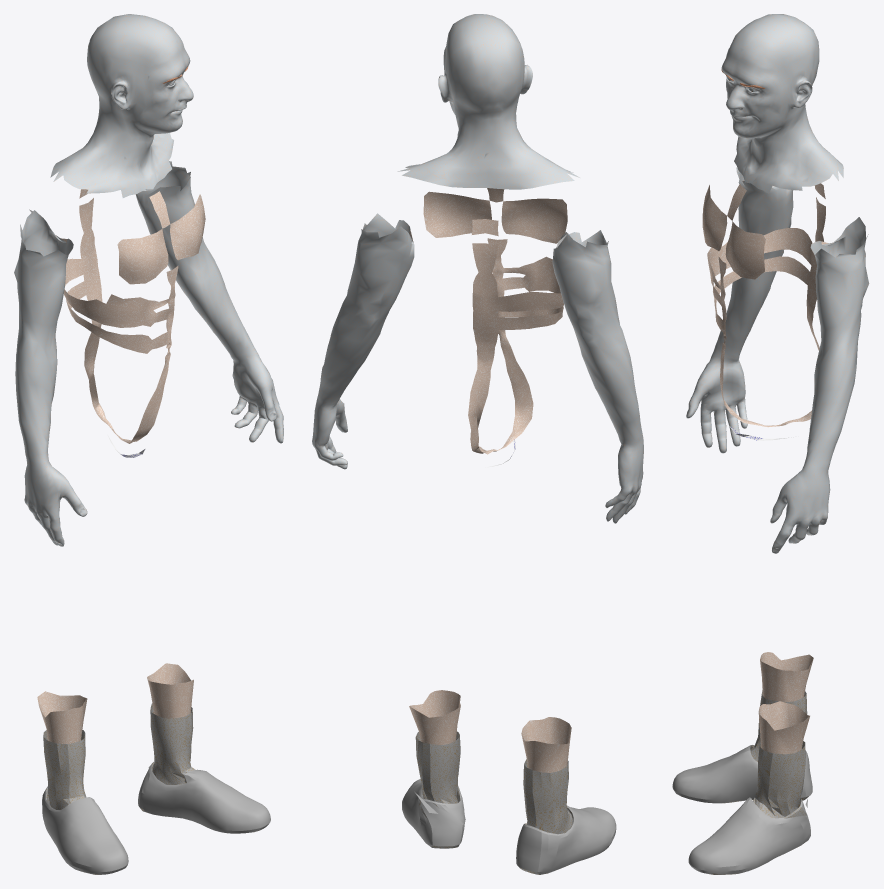
The model's file is skeleton_no_hair.dae.
3 renders of one model, left to right at view 1: azimuth 30°, elevation 25°; view 2: azimuth 150°, elevation 25°; view 3: azimuth 270°, elevation 25°, orthographic. The views are drawn at different scales.
Visible parts, largest first — view 1: group_4, group_4_002, group_4_001, group_5_004, group_1, group_1_001, group_0_008, group_0_009, group_5_014, group_5_010, group_5_013, group_5_011; view 2: group_4, group_4_002, group_4_001, group_5_004, group_1_001, group_0_009, group_1, group_5_014, group_0_008, group_5_011, group_5_013, group_5_010; view 3: group_4, group_4_001, group_4_002, group_1, group_5_004, group_1_001, group_0_008, group_5_010, group_5_013, group_5_011, group_5_014, group_0_009.
Boxes of the visible parts, left/top/right/bottom form: group_4: left=50, top=14, right=193, bottom=197; group_4_002: left=14, top=210, right=87, bottom=546; group_4_001: left=135, top=161, right=283, bottom=443; group_5_004: left=64, top=198, right=178, bottom=443; group_1: left=138, top=762, right=270, bottom=833; group_1_001: left=42, top=786, right=128, bottom=874; group_0_008: left=150, top=703, right=195, bottom=784; group_0_009: left=43, top=730, right=86, bottom=809; group_5_014: left=117, top=229, right=168, bottom=284; group_5_010: left=147, top=663, right=193, bottom=718; group_5_013: left=37, top=691, right=87, bottom=743; group_5_011: left=170, top=194, right=205, bottom=260; group_4: left=397, top=14, right=579, bottom=189; group_4_002: left=552, top=230, right=643, bottom=523; group_4_001: left=312, top=213, right=414, bottom=469; group_5_004: left=468, top=238, right=563, bottom=454; group_1_001: left=516, top=805, right=616, bottom=874; group_0_009: left=523, top=759, right=572, bottom=834; group_1: left=402, top=779, right=465, bottom=847; group_5_014: left=501, top=198, right=567, bottom=243; group_0_008: left=415, top=731, right=460, bottom=803; group_5_011: left=423, top=191, right=491, bottom=237; group_5_013: left=521, top=717, right=571, bottom=772; group_5_010: left=409, top=690, right=460, bottom=744; group_4: left=721, top=14, right=843, bottom=193; group_4_001: left=770, top=217, right=869, bottom=553; group_4_002: left=686, top=167, right=793, bottom=453; group_1: left=688, top=797, right=810, bottom=874; group_5_004: left=707, top=197, right=825, bottom=427; group_1_001: left=672, top=745, right=812, bottom=803; group_0_008: left=753, top=741, right=805, bottom=818; group_5_010: left=758, top=701, right=809, bottom=754; group_5_013: left=760, top=652, right=813, bottom=701; group_5_011: left=725, top=221, right=765, bottom=279; group_5_014: left=702, top=185, right=727, bottom=250; group_0_009: left=750, top=690, right=807, bottom=761.
Bounding box in the file's own units: 0.661 × 0.3934 × 1.79.
